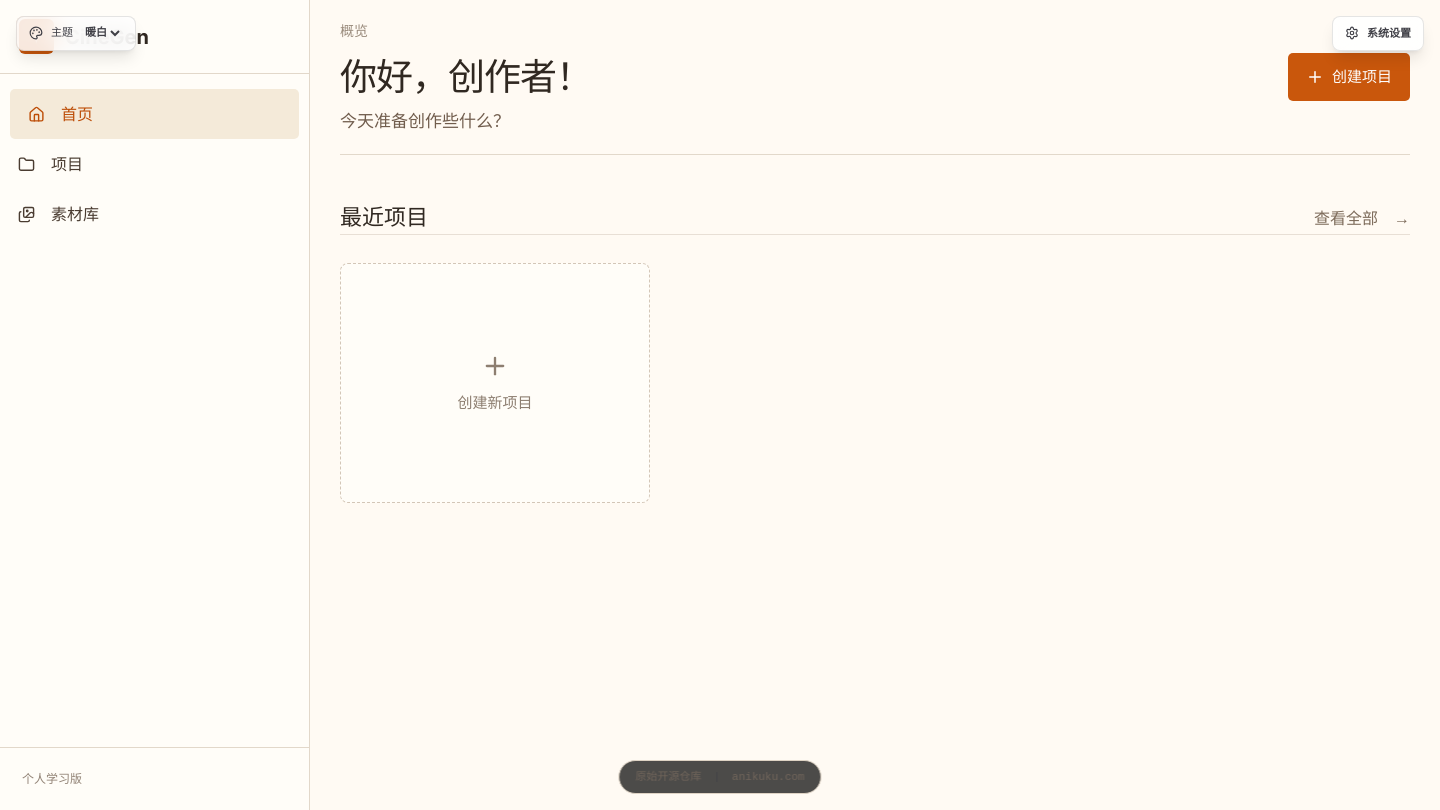
App settings entry › opens the settings center from the dashboard before a project exists
The width and height of the screenshot is (1440, 810).
Expected: the heading "你好，创作者！" is shown, x1=340 y1=49 x2=592 y2=104
Click the button "系统设置": [1378, 33] box x1=1332 y1=16 x2=1424 y2=50
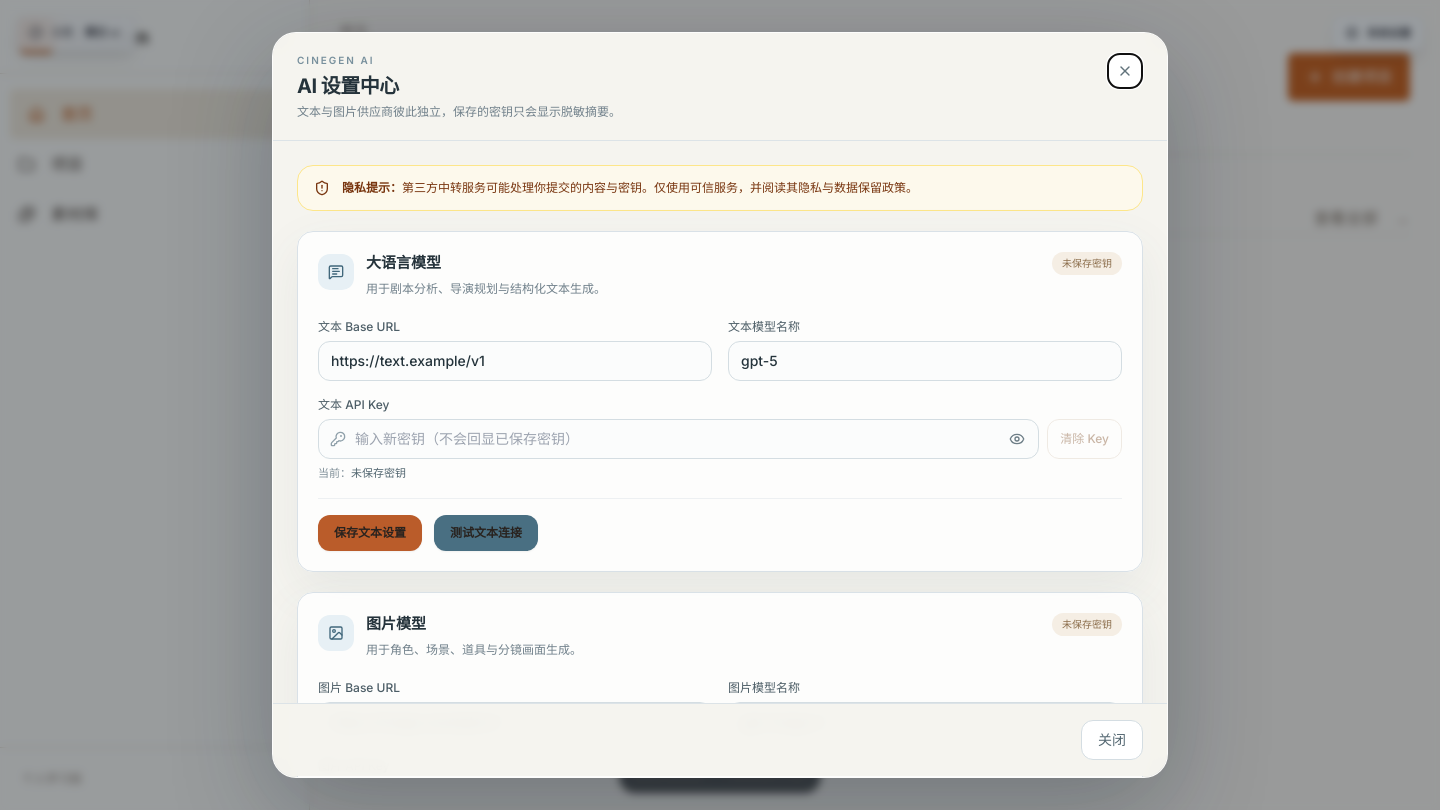
Result: the dialog "AI 设置中心" is shown at x1=272 y1=32 x2=1168 y2=778
